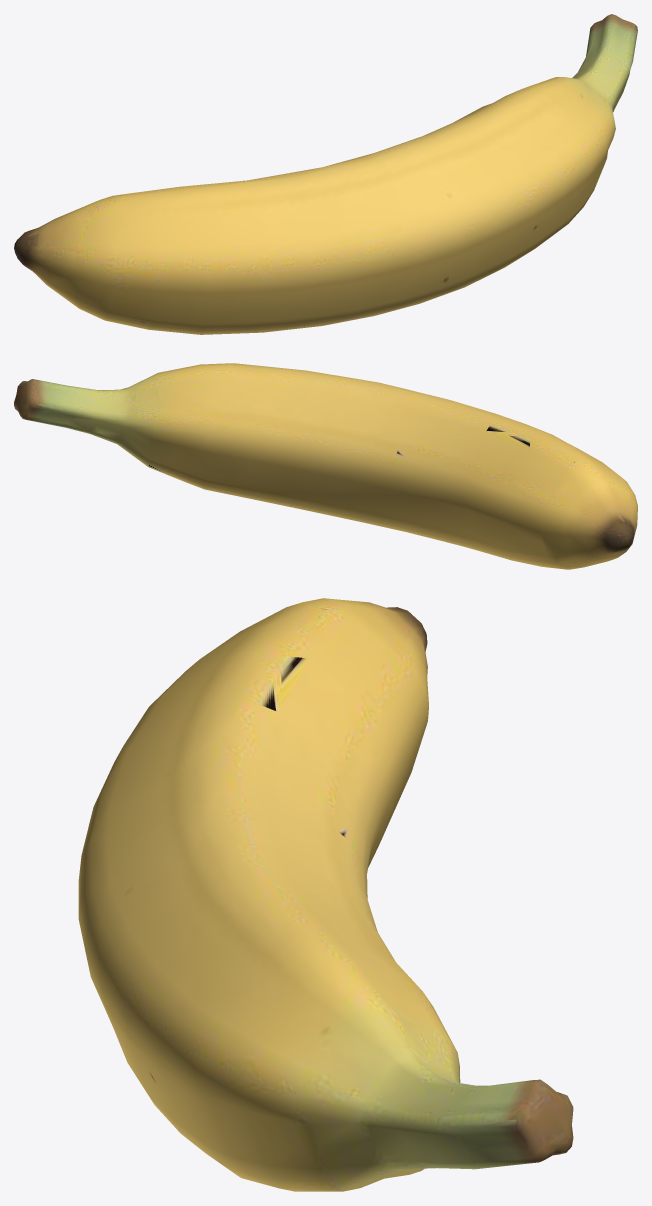
File: food-banana.glb
The picture shows the model from 3 angles, top to bottom: view 1: azimuth 30°, elevation 25°; view 2: azimuth 150°, elevation 25°; view 3: azimuth 270°, elevation 25°; orthographic projection. The views are drawn at different scales.
Visible parts, largest first — view 1: banana_body; view 2: banana_body; view 3: banana_body.
Part boxes in pixels (left/top/right/bottom): banana_body: left=14, top=14, right=637, bottom=334; banana_body: left=14, top=363, right=637, bottom=569; banana_body: left=78, top=598, right=573, bottom=1191.
Bounding box in the file's own units: 4 × 0.8481 × 1.47.
Materials: 1 (1 with a texture image).
